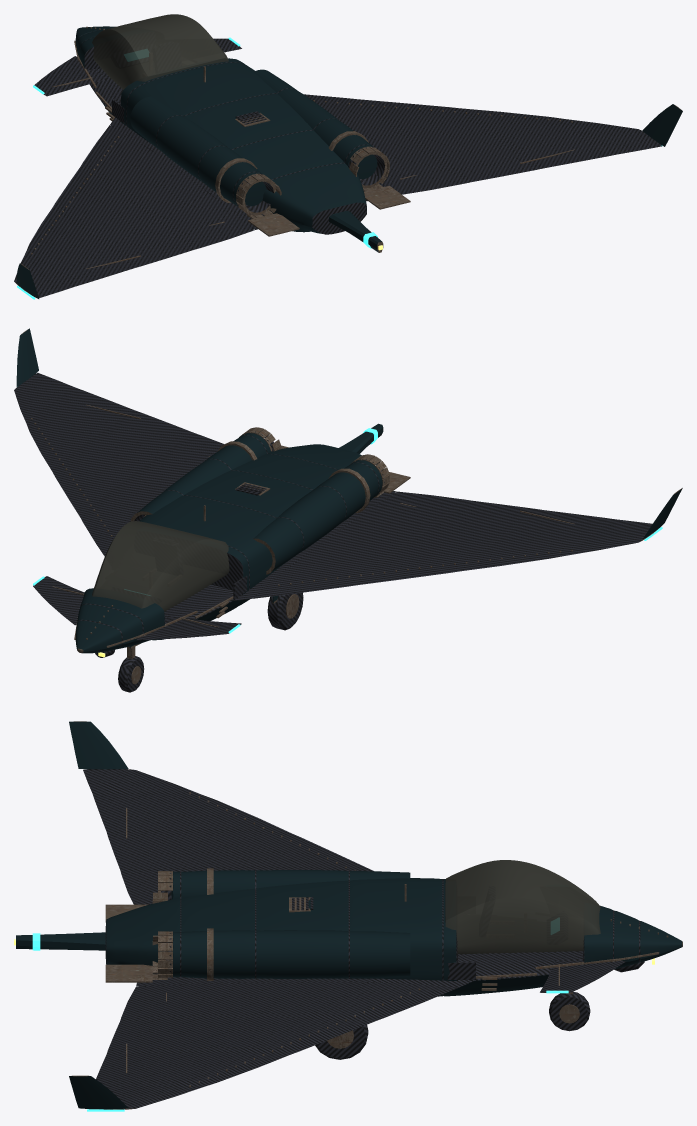
3 renders of one model, top to bottom at view 1: azimuth 30°, elevation 25°; view 2: azimuth 150°, elevation 25°; view 3: azimuth 270°, elevation 25°, orthographic. The views are drawn at different scales.
Visible parts, largest first — view 1: kb8_core, kb8_wing_l, kb8_wing_r, kb8_canard_l; view 2: kb8_core, kb8_wing_l, kb8_wing_r, kb8_gear_down, kb8_canard_l, kb8_canard_r; view 3: kb8_core, kb8_wing_r, kb8_wing_l, kb8_gear_down, kb8_canard_r.
Boxes of the visible parts, <box> form: kb8_core: <box>74,14,410,252</box>; kb8_wing_l: <box>14,125,254,299</box>; kb8_wing_r: <box>304,94,682,194</box>; kb8_canard_l: <box>33,56,106,96</box>; kb8_core: <box>74,423,410,657</box>; kb8_wing_l: <box>252,488,682,598</box>; kb8_wing_r: <box>14,328,223,556</box>; kb8_gear_down: <box>118,592,303,692</box>; kb8_canard_l: <box>136,616,241,640</box>; kb8_canard_r: <box>33,576,84,625</box>; kb8_core: <box>14,860,682,996</box>; kb8_wing_r: <box>69,982,457,1111</box>; kb8_wing_l: <box>69,721,373,904</box>; kb8_gear_down: <box>315,991,590,1059</box>; kb8_canard_r: <box>540,960,625,993</box>.
Bounding box in the file's own units: 8.96 × 1.78 × 7.14.
10 materials, 4 textured.
